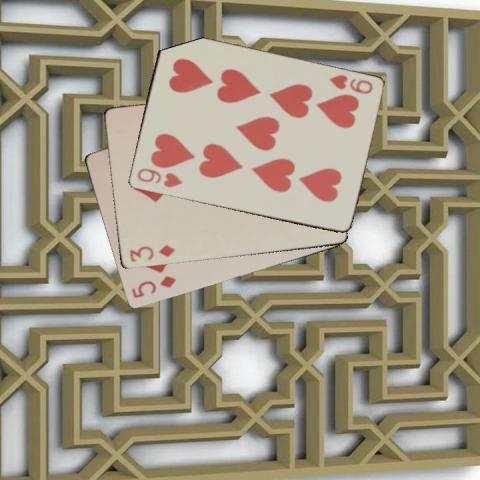3d: (126, 242, 177, 264)
5d: (129, 273, 177, 300)
9h: (134, 166, 184, 190), (326, 71, 374, 96)
